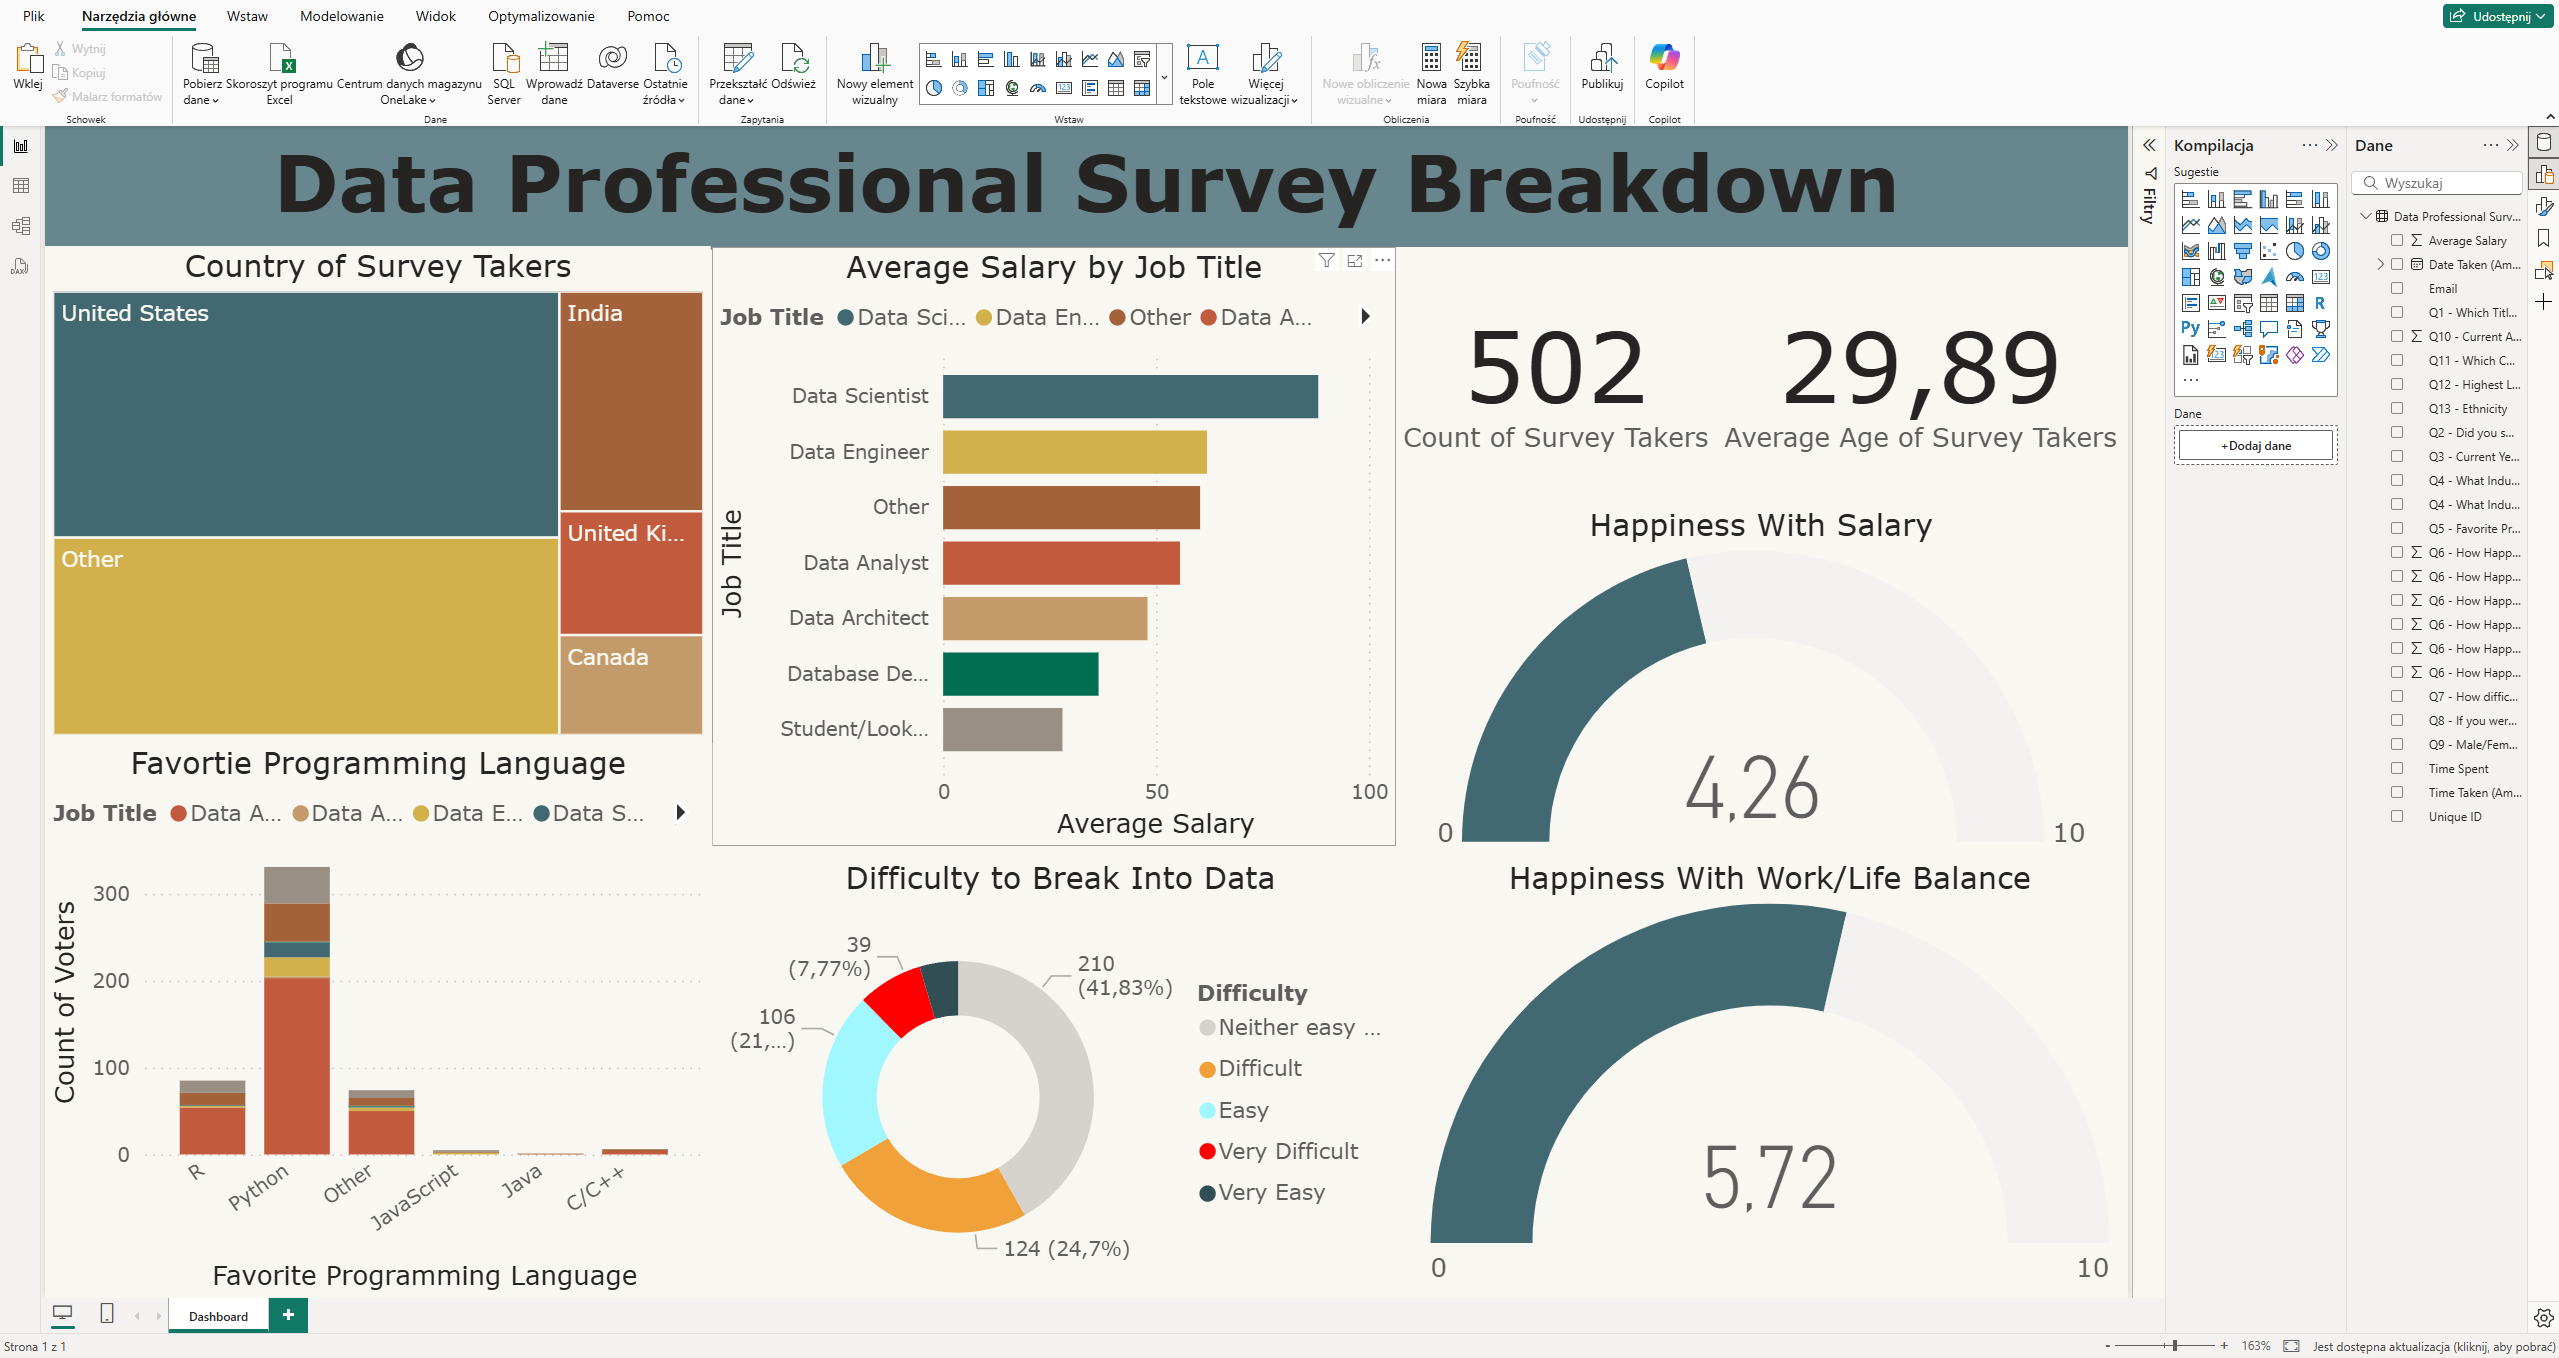

Layout of this report page (visuals, bound fields, positions):
{"tool":"powerbi","page":{"name":"Dashboard","canvas":[1280,720],"ordinal":0},"visuals":[{"type":"textbox","box":[0,0,1280,75.5],"z":0},{"type":"card","fields":{"Values":["Count(Data Professional Survey.Unique ID)"]},"box":[825,74.1,206.2,159.3],"z":1000},{"type":"card","fields":{"Values":["Avg(Data Professional Survey.Q10 - Current Age)"]},"box":[1023.9,74.1,256.1,159.3],"z":2000},{"type":"barChart","title":"Average Salary by Job Title","fields":{"Category":["Data Professional Survey.Q1 - Which Title Best Fits your Current Role?.1"],"Y":["Avg(Data Professional Survey.Average Salary)"],"Series":["Data Professional Survey.Q1 - Which Title Best Fits your Current Role?.1"]},"box":[409.5,74.1,420.6,368.4],"z":3000},{"type":"columnChart","title":" Favortie Programming Language","fields":{"Category":["Data Professional Survey.Q5 - Favorite Programming Language.1"],"Y":["CountNonNull(Data Professional Survey.Unique ID)"],"Series":["Data Professional Survey.Q1 - Which Title Best Fits your Current Role?.1"]},"box":[0,379,409.6,341.1],"z":4000},{"type":"treemap","title":"Country of Survey Takers","fields":{"Group":["Data Professional Survey.Q11 - Which Country do you live in?.1"],"Values":["CountNonNull(Data Professional Survey.Q11 - Which Country do you live in?.1)"]},"box":[0,73.9,409.3,305.4],"z":5000},{"type":"gauge","title":"Happiness With Salary","fields":{"Y":["Avg(Data Professional Survey.Q6 - How Happy are you in your Current Position with the following? (Salary))"],"MinValue":["Min(Data Professional Survey.Q6 - How Happy are you in your Current Position with the following? (Salary))1"],"MaxValue":["Max(Data Professional Survey.Q6 - How Happy are you in your Current Position with the following? (Salary))2"]},"box":[839,233.1,430.5,216.9],"z":6000},{"type":"gauge","title":"Happiness With Work/Life Balance","fields":{"Y":["Avg(Data Professional Survey.Q6 - How Happy are you in your Current Position with the following? (Work/Life Balance))"],"MinValue":["Min(Data Professional Survey.Q6 - How Happy are you in your Current Position with the following? (Work/Life Balance))1"],"MaxValue":["Max(Data Professional Survey.Q6 - How Happy are you in your Current Position with the following? (Work/Life Balance))2"]},"box":[839,449.9,441,270.5],"z":7000},{"type":"donutChart","title":"Difficulty to Break Into Data","fields":{"Category":["Data Professional Survey.Q7 - How difficult was it for you to break into Data?"],"Y":["CountNonNull(Data Professional Survey.Q7 - How difficult was it for you to break into Data?)"]},"box":[409.3,449.9,429.6,270.5],"z":8000}]}

Visuals, with their boxes on the page's 1280x720 design canvas (x1, y1, x2, y2). These are canvas units, not pixel positions in the 2559x1358 screenshot, which may show the page scaled, cropped or inside an application window:
textbox: (0, 0, 1280, 76)
card - Count(Data Professional Survey.Unique ID): (825, 74, 1031, 233)
card - Avg(Data Professional Survey.Q10 - Current Age): (1024, 74, 1280, 233)
"Average Salary by Job Title" barChart: (410, 74, 830, 442)
" Favortie Programming Language" columnChart: (0, 379, 410, 720)
"Country of Survey Takers" treemap: (0, 74, 409, 379)
"Happiness With Salary" gauge: (839, 233, 1270, 450)
"Happiness With Work/Life Balance" gauge: (839, 450, 1280, 720)
"Difficulty to Break Into Data" donutChart: (409, 450, 839, 720)
